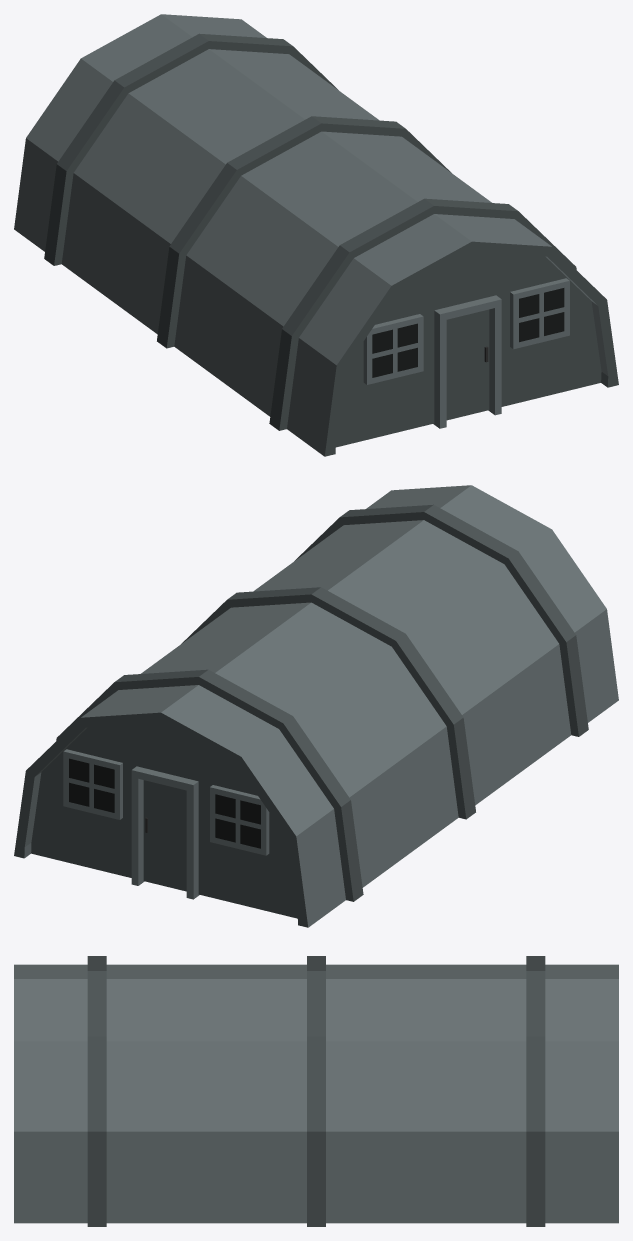
File: Tant.FBX
3 renders of one model, top to bottom at view 1: azimuth 30°, elevation 25°; view 2: azimuth 150°, elevation 25°; view 3: azimuth 270°, elevation 25°, orthographic. The views are drawn at different scales.
Visible parts, largest first — view 1: Tant; view 2: Tant; view 3: Tant.
Boxes of the visible parts, left/top/right/bottom form: Tant: left=14, top=14, right=618, bottom=456; Tant: left=14, top=485, right=618, bottom=927; Tant: left=14, top=956, right=618, bottom=1226.
Size of the model in its own units: 7.66 by 4.46 by 13.32.
1 material, 1 textured.
